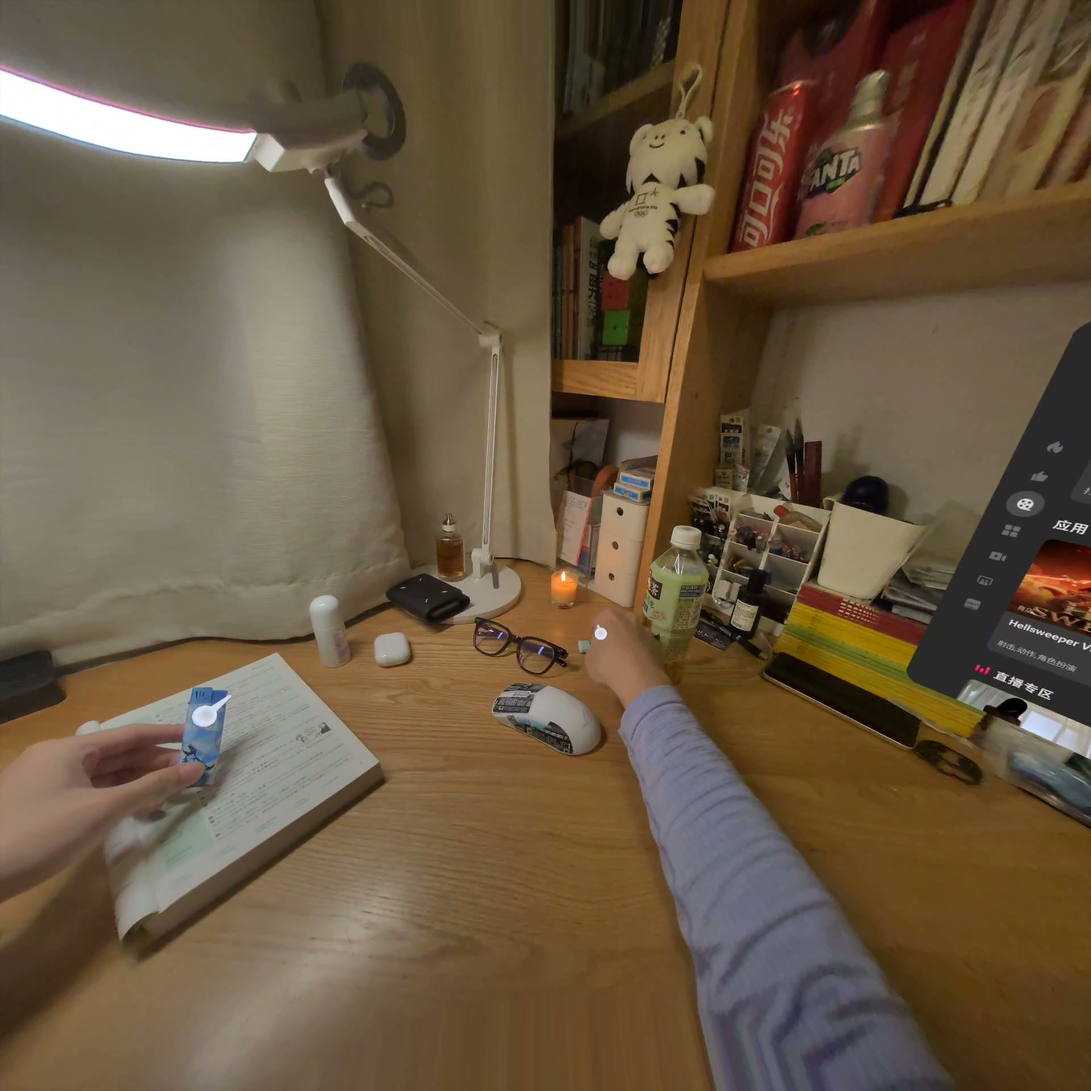lighter: (181, 687, 231, 786)
